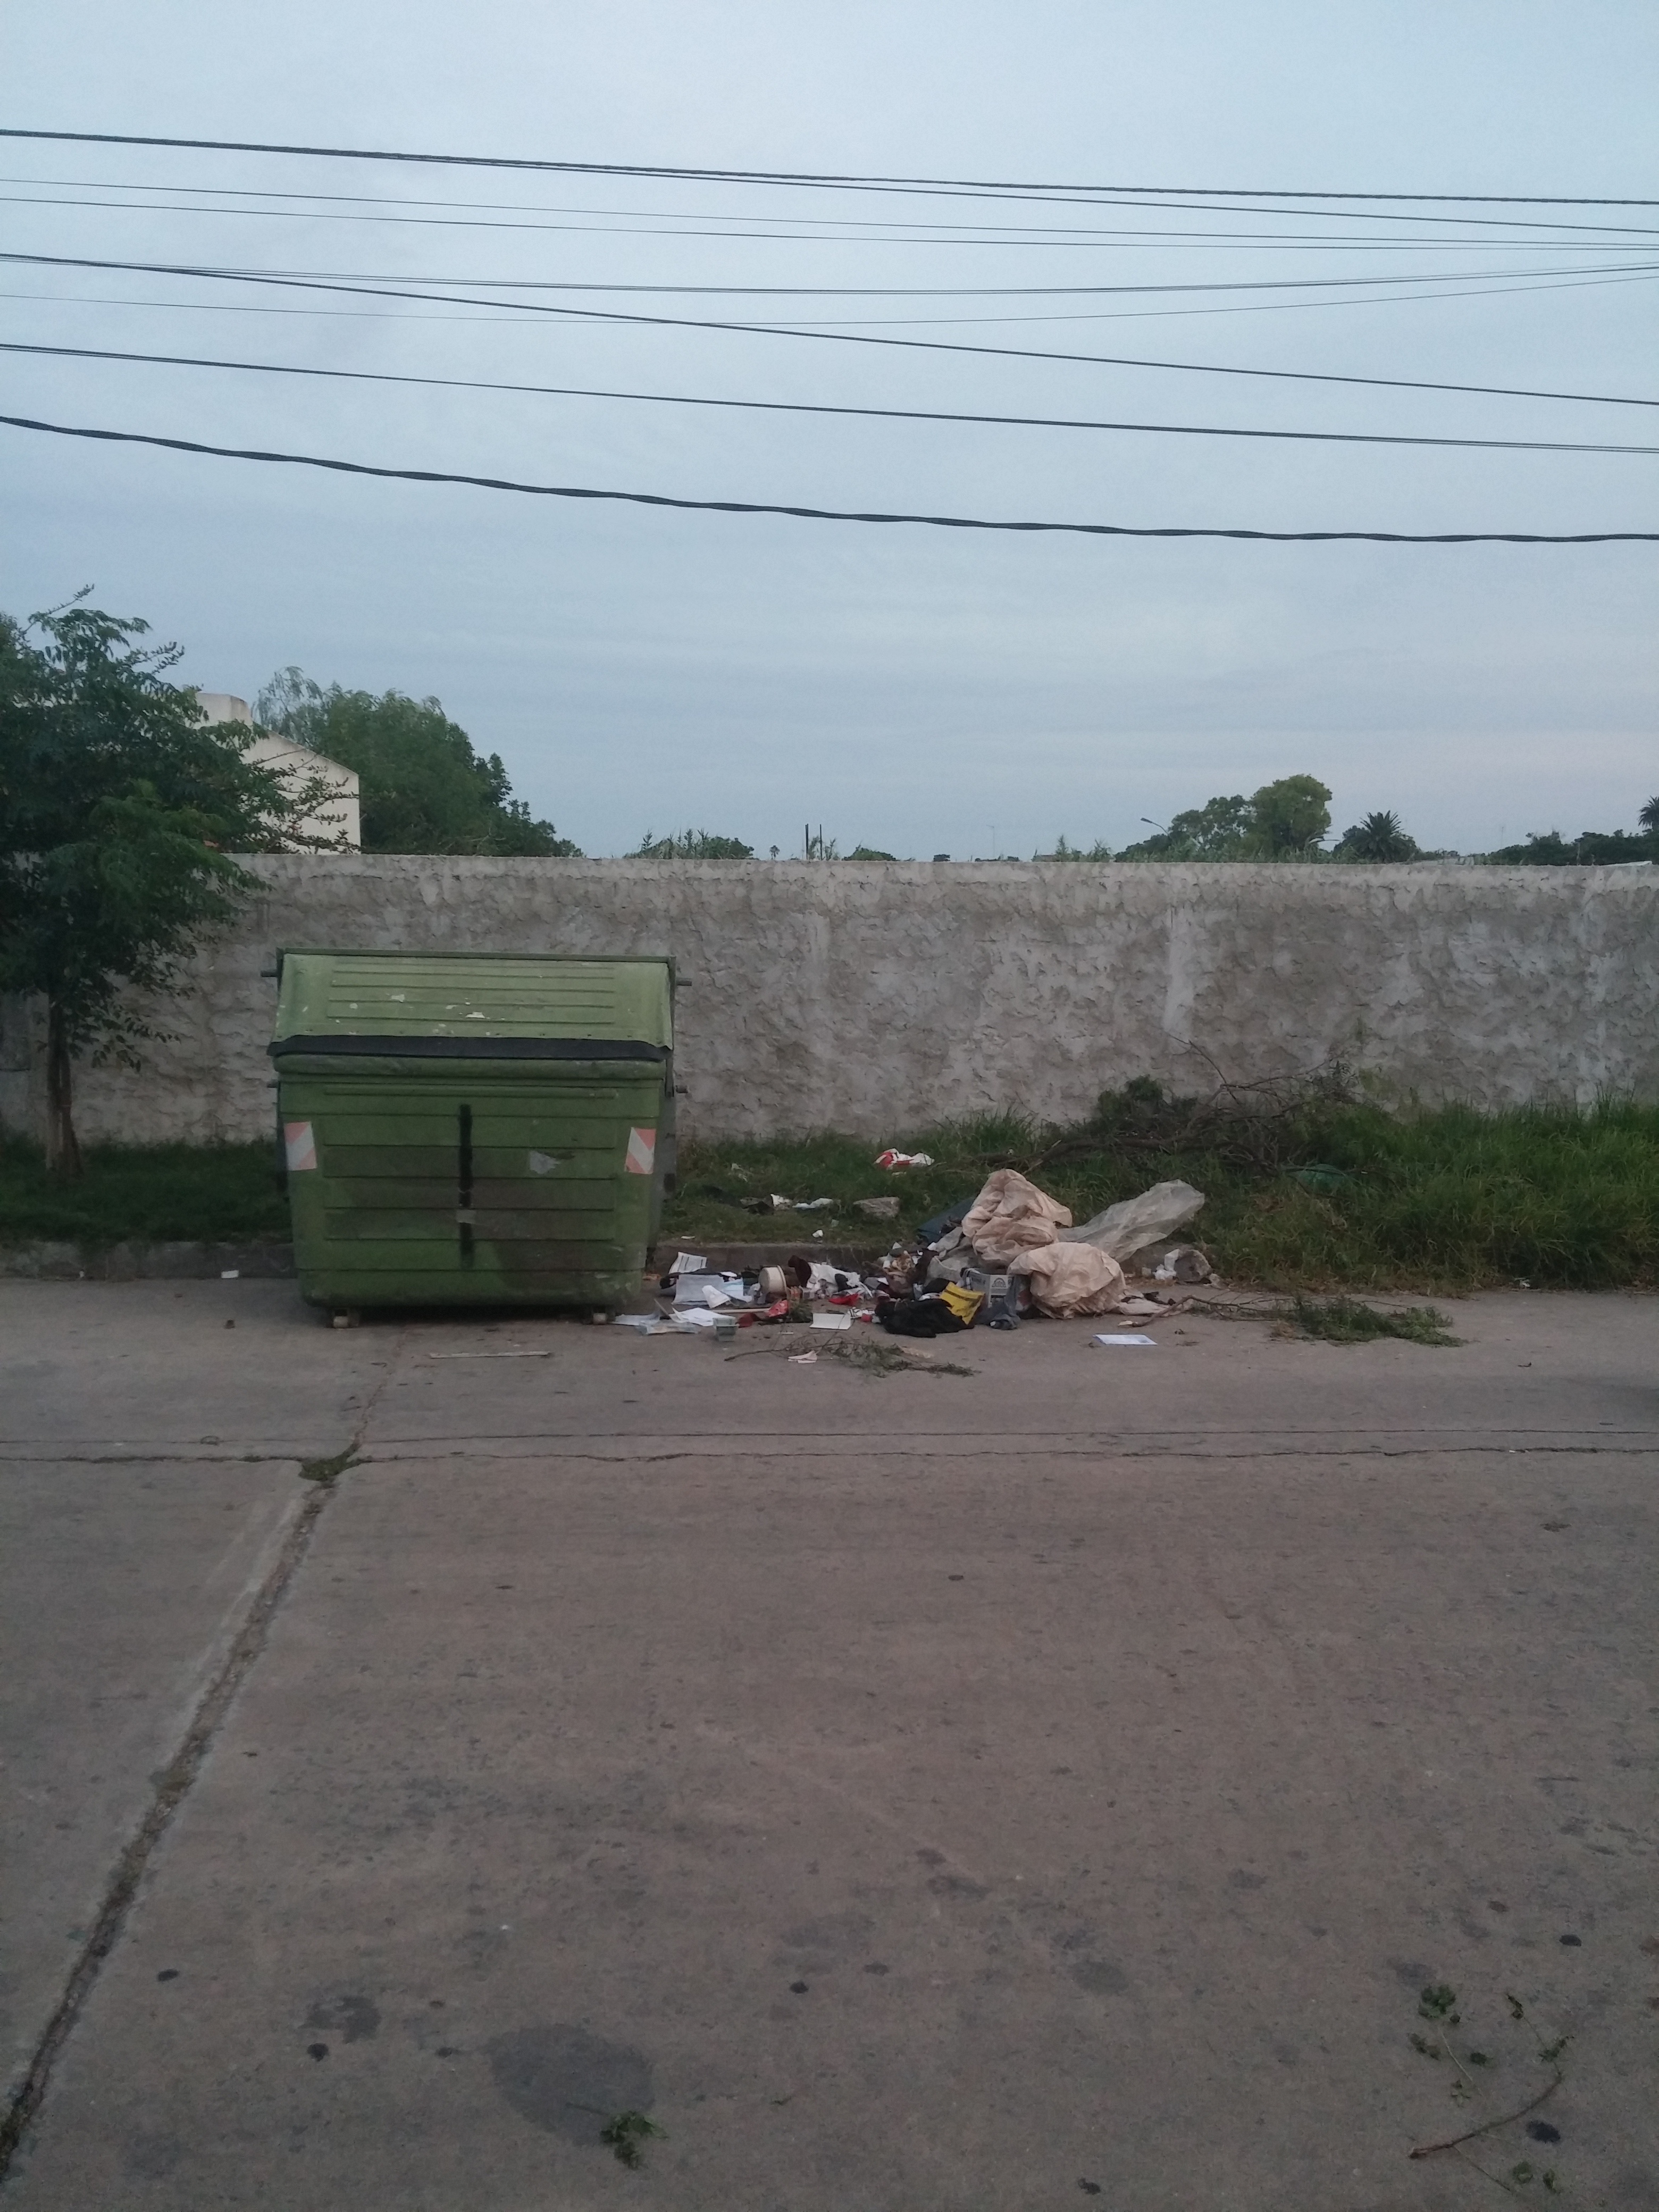container: (258, 935, 690, 1313)
